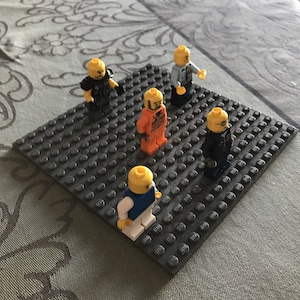Lego: (115, 166, 161, 240), (80, 58, 123, 119), (168, 43, 208, 107), (137, 86, 171, 153), (202, 108, 233, 179)
